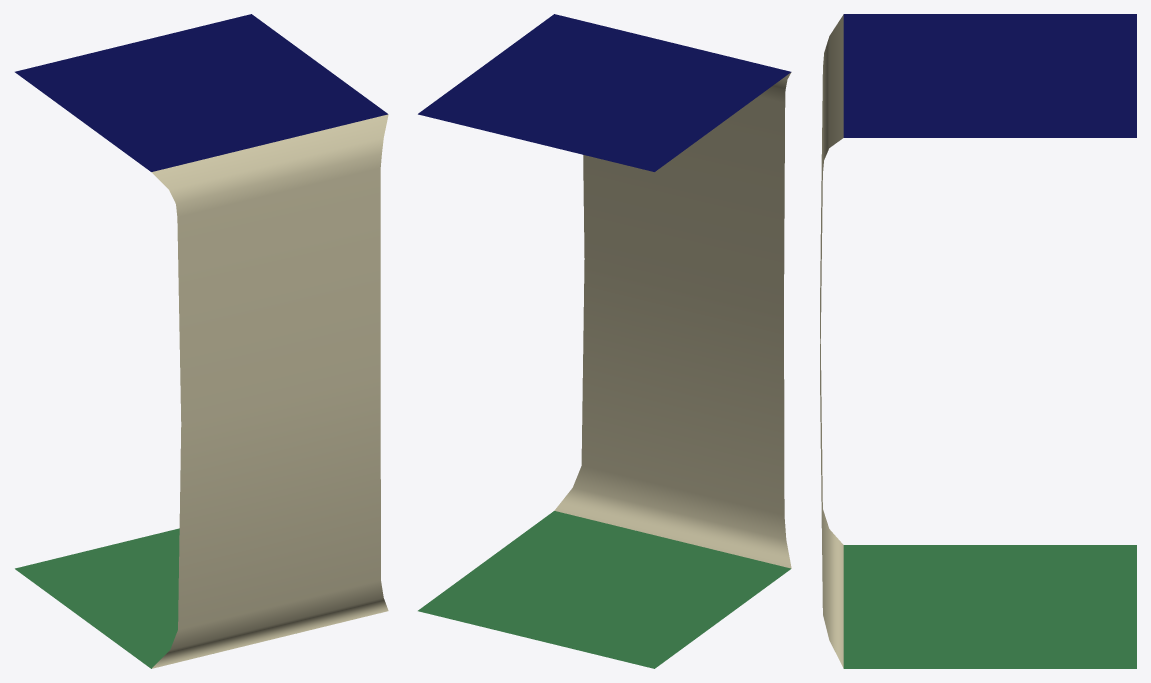
The model's file is ModuleSC_col_01.FBX.
3 views of the same model, side by side, from view 1: azimuth 30°, elevation 25°; view 2: azimuth 150°, elevation 25°; view 3: azimuth 270°, elevation 25° (orthographic). The views are drawn at different scales.
Visible parts, largest first — view 1: ModuleSCs_B_wall_016, ModuleSCs_B_roof_015, ModuleSCs_B_floor_014; view 2: ModuleSCs_B_wall_016, ModuleSCs_B_roof_015, ModuleSCs_B_floor_014; view 3: ModuleSCs_B_floor_014, ModuleSCs_B_roof_015, ModuleSCs_B_wall_016.
Part boxes in pixels (x1=…): ModuleSCs_B_wall_016: x1=151, y1=114, x2=388, y2=668; ModuleSCs_B_roof_015: x1=15, y1=14, x2=387, y2=171; ModuleSCs_B_floor_014: x1=15, y1=528, x2=179, y2=668; ModuleSCs_B_wall_016: x1=554, y1=72, x2=791, y2=568; ModuleSCs_B_roof_015: x1=418, y1=14, x2=790, y2=171; ModuleSCs_B_floor_014: x1=418, y1=511, x2=790, y2=668; ModuleSCs_B_floor_014: x1=843, y1=545, x2=1136, y2=668; ModuleSCs_B_roof_015: x1=843, y1=14, x2=1136, y2=137; ModuleSCs_B_wall_016: x1=820, y1=14, x2=843, y2=667.
Bounding box in the file's own units: 39.37 × 78.74 × 42.55.
